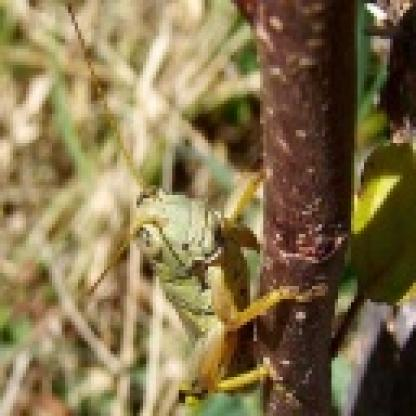grasshopper: (91, 132, 301, 412)
